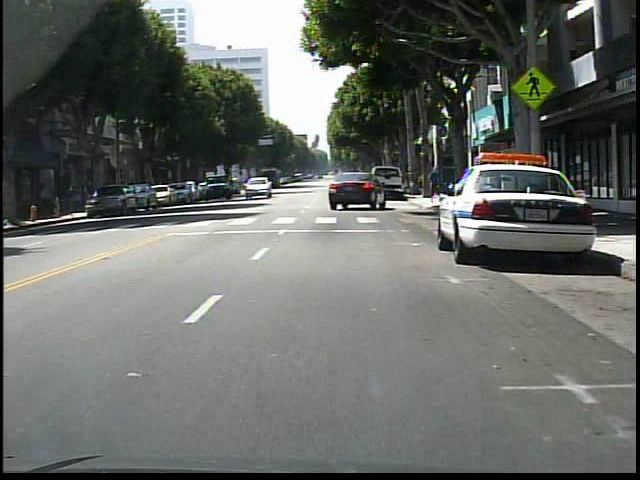person: (427, 163, 449, 206)
